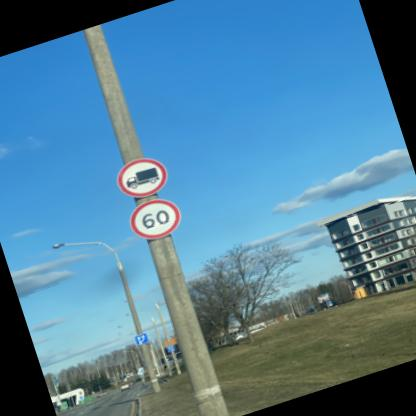speedlimit: (124, 192, 183, 244)
